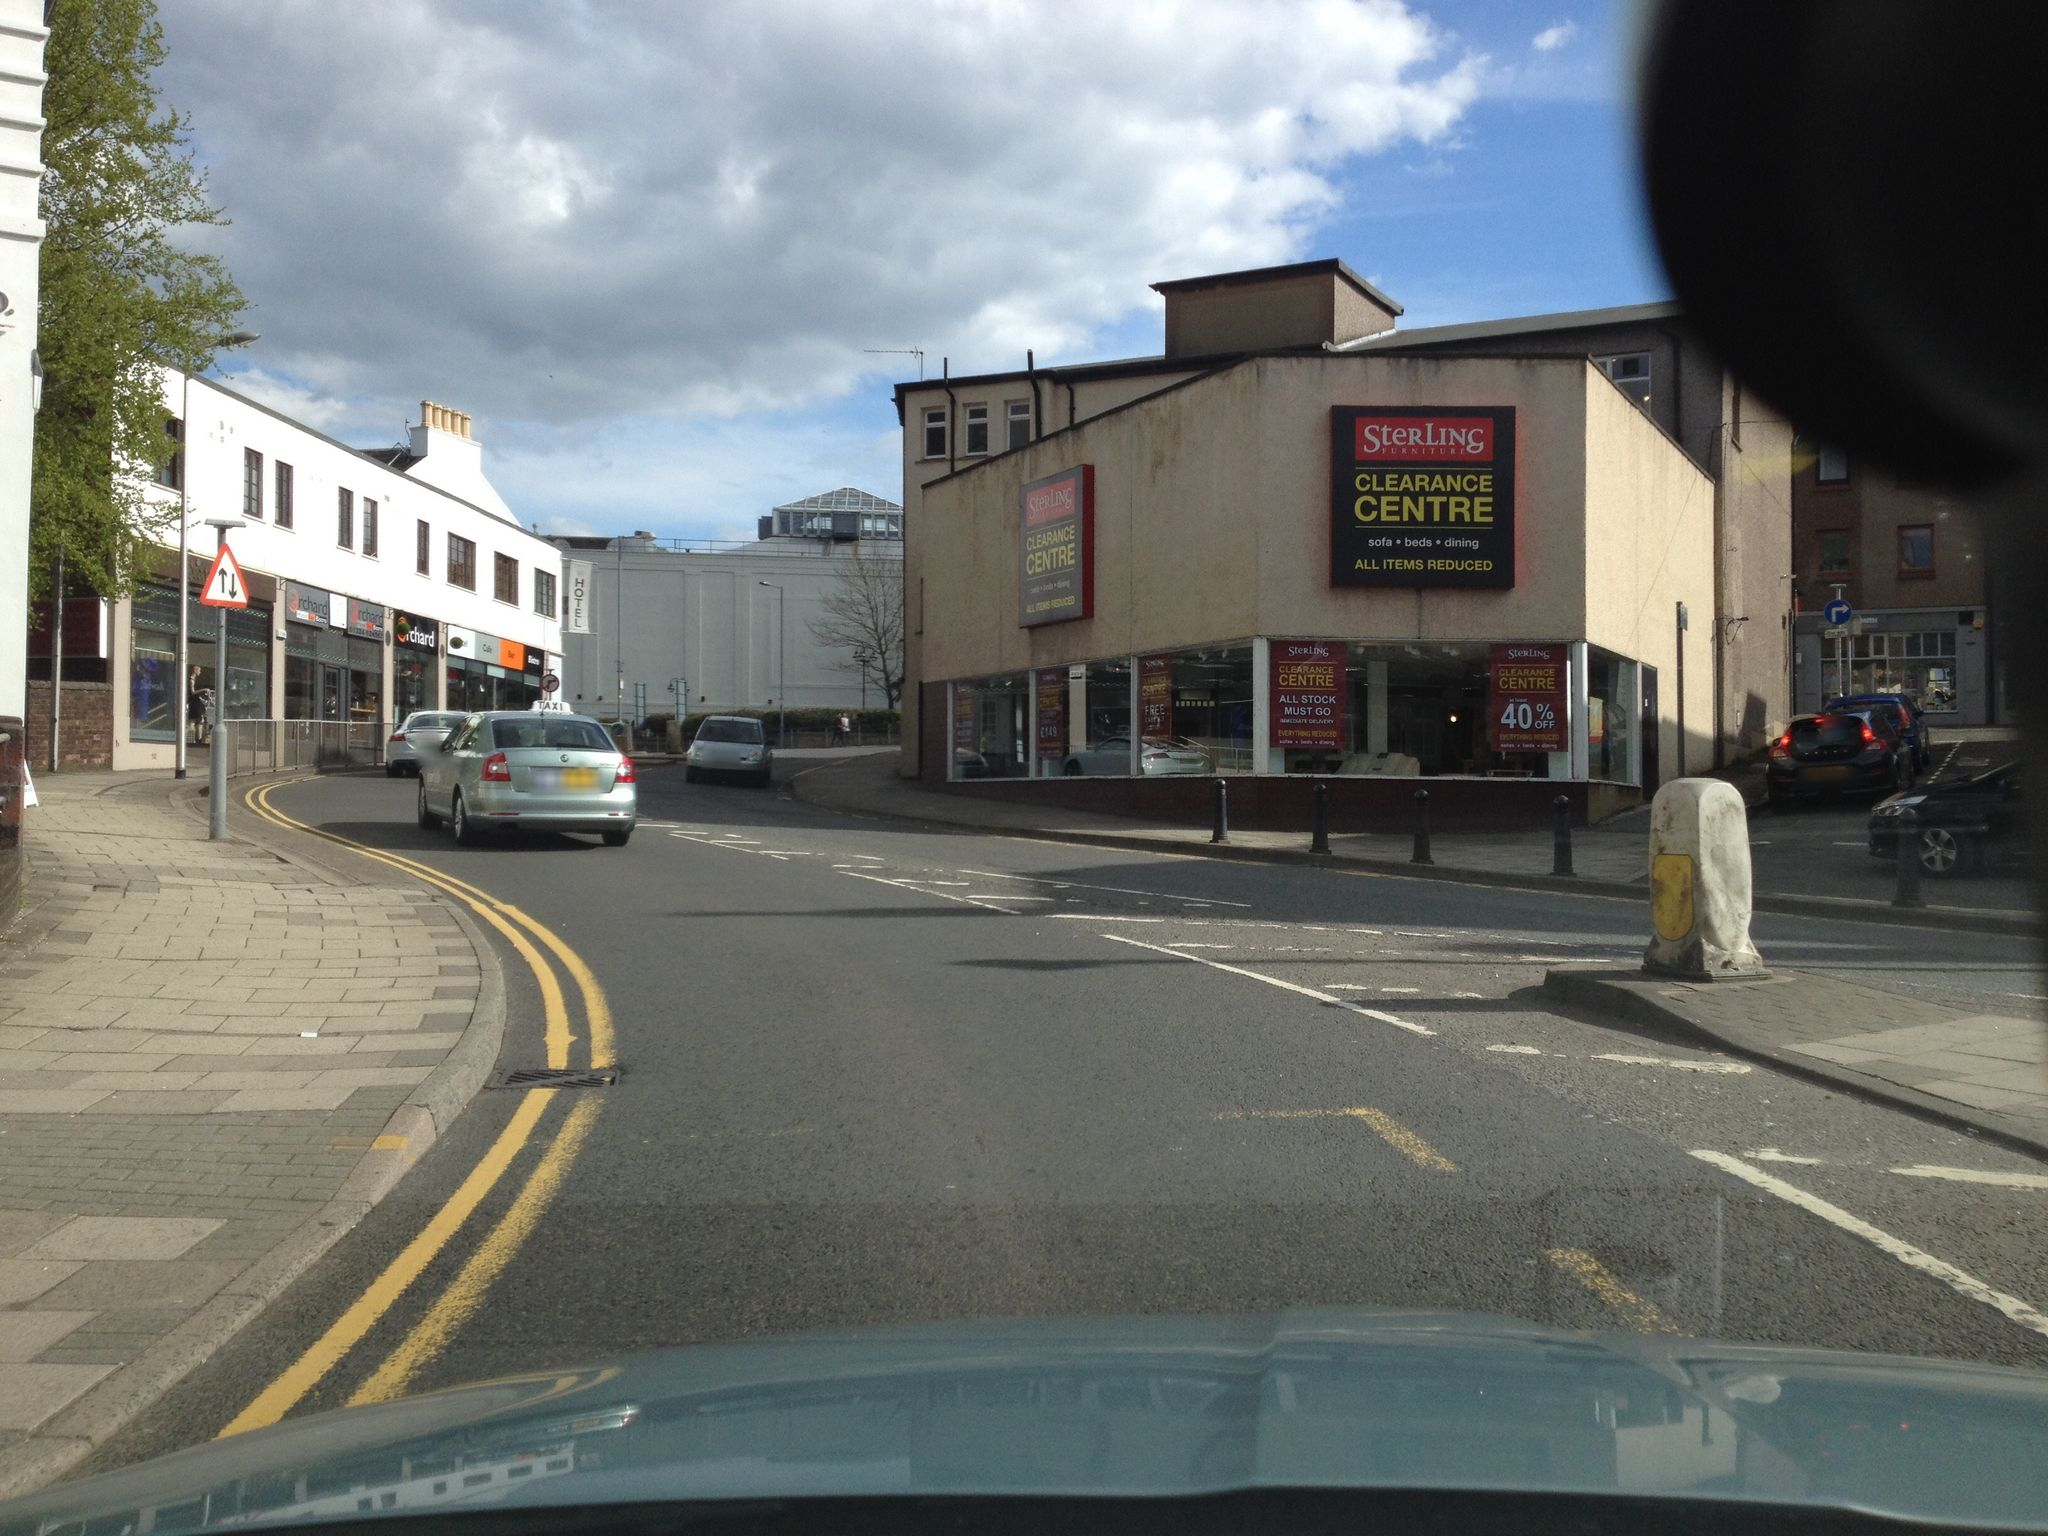car: (416, 700, 639, 845), (1866, 753, 2048, 879), (1767, 713, 1914, 808), (1821, 691, 1930, 774), (685, 715, 774, 786), (385, 708, 469, 778)
